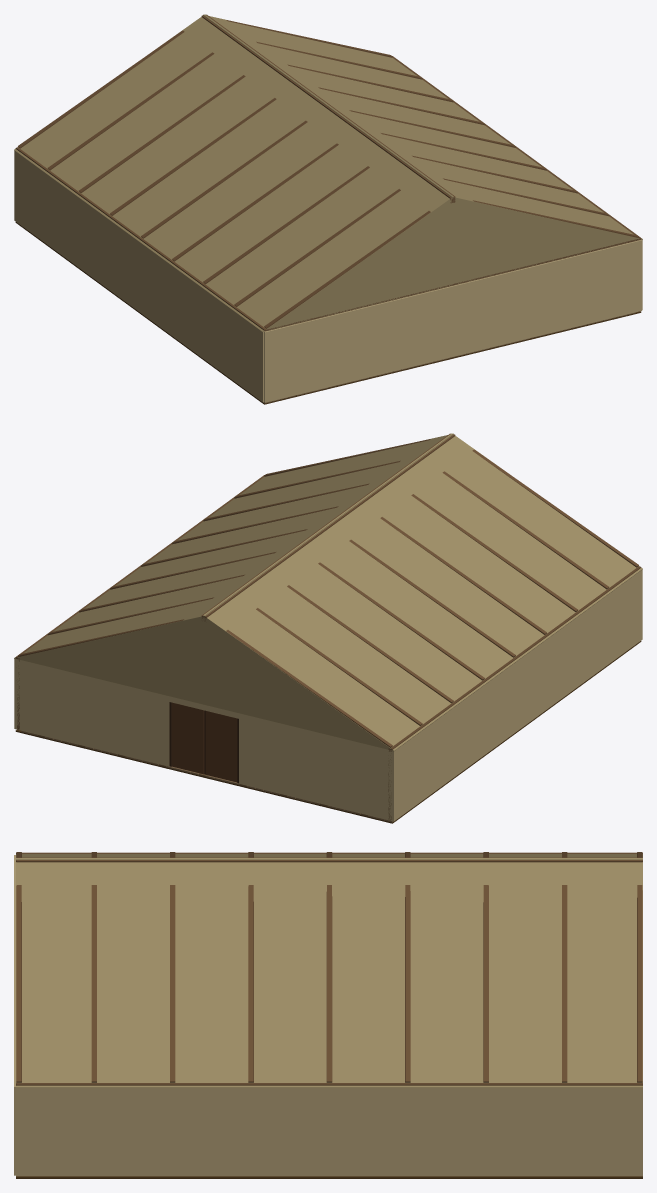
Rendered from TentRoomSmall.glb.
3 views of the same model, one above another, from view 1: azimuth 30°, elevation 25°; view 2: azimuth 150°, elevation 25°; view 3: azimuth 270°, elevation 25° (orthographic). The views are drawn at different scales.
Parts seen in each view (by area): view 1: TentRoomSmall.001; view 2: TentRoomSmall.001; view 3: TentRoomSmall.001.
Part boxes in pixels (x1,y1,x2,y2): TentRoomSmall.001: (14,14,642,404); TentRoomSmall.001: (14,433,642,823); TentRoomSmall.001: (14,852,642,1178).
Bounding box in the file's own units: 14.12 × 5.75 × 16.05.
